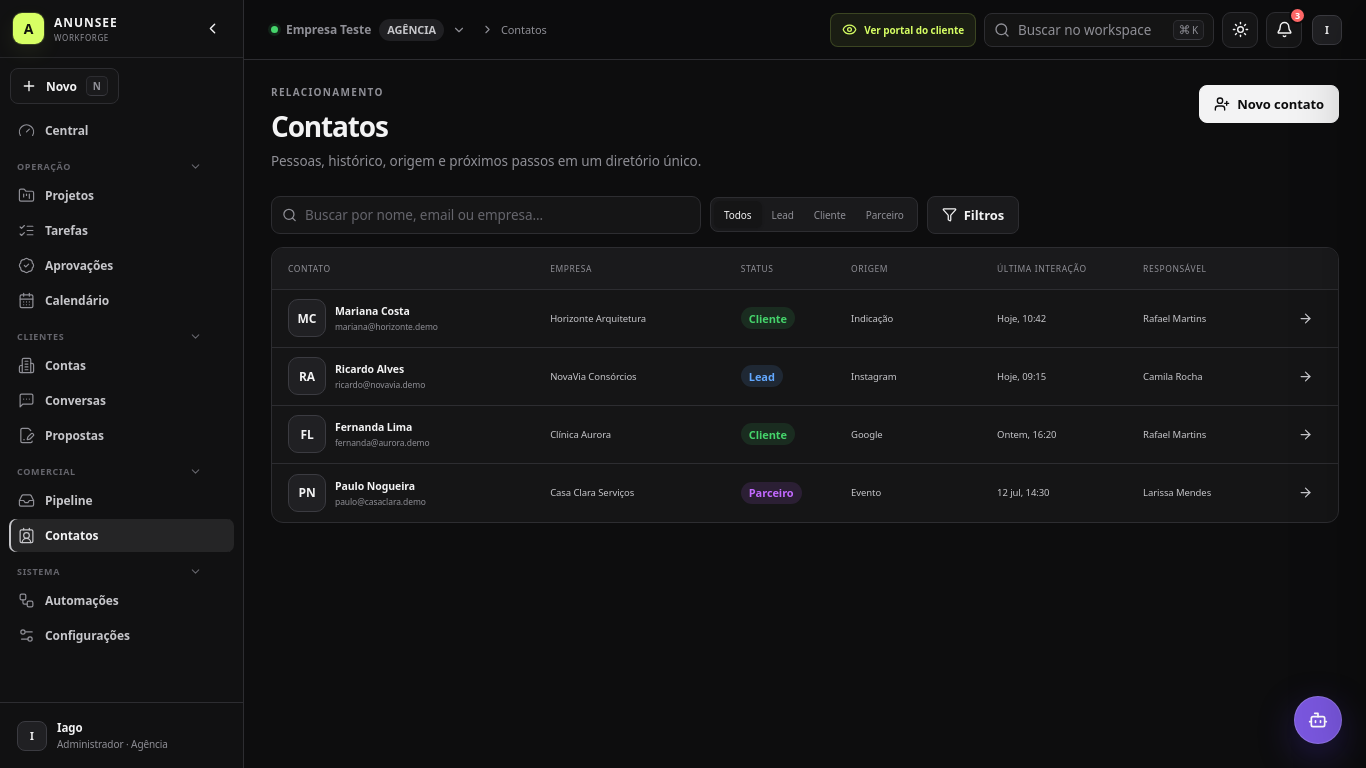
Test: core interactions › creates and persists a contact
Click the button "Novo contato": (1269, 104) [1199,85,1339,123]
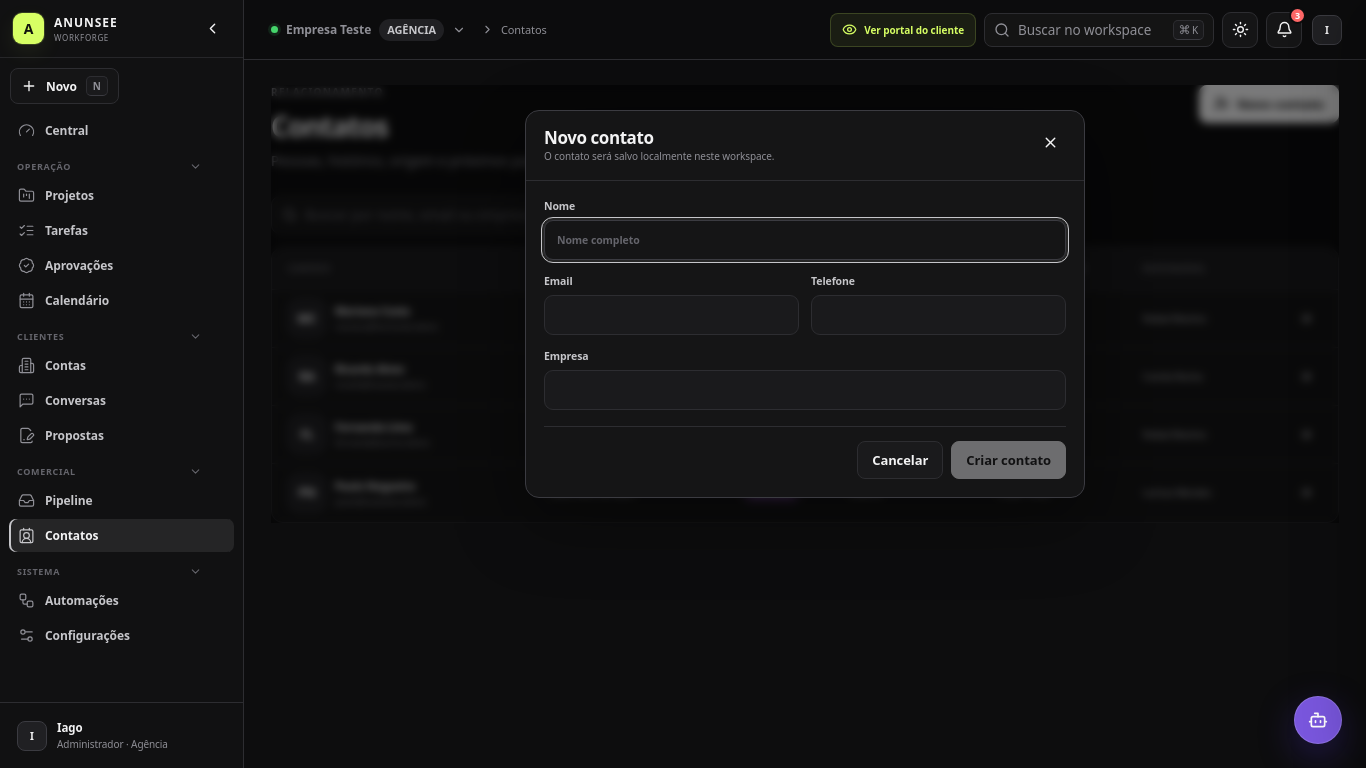
In the field with placeholder "Nome completo": (805, 240) [544,220,1066,260], type "Contato Teste"
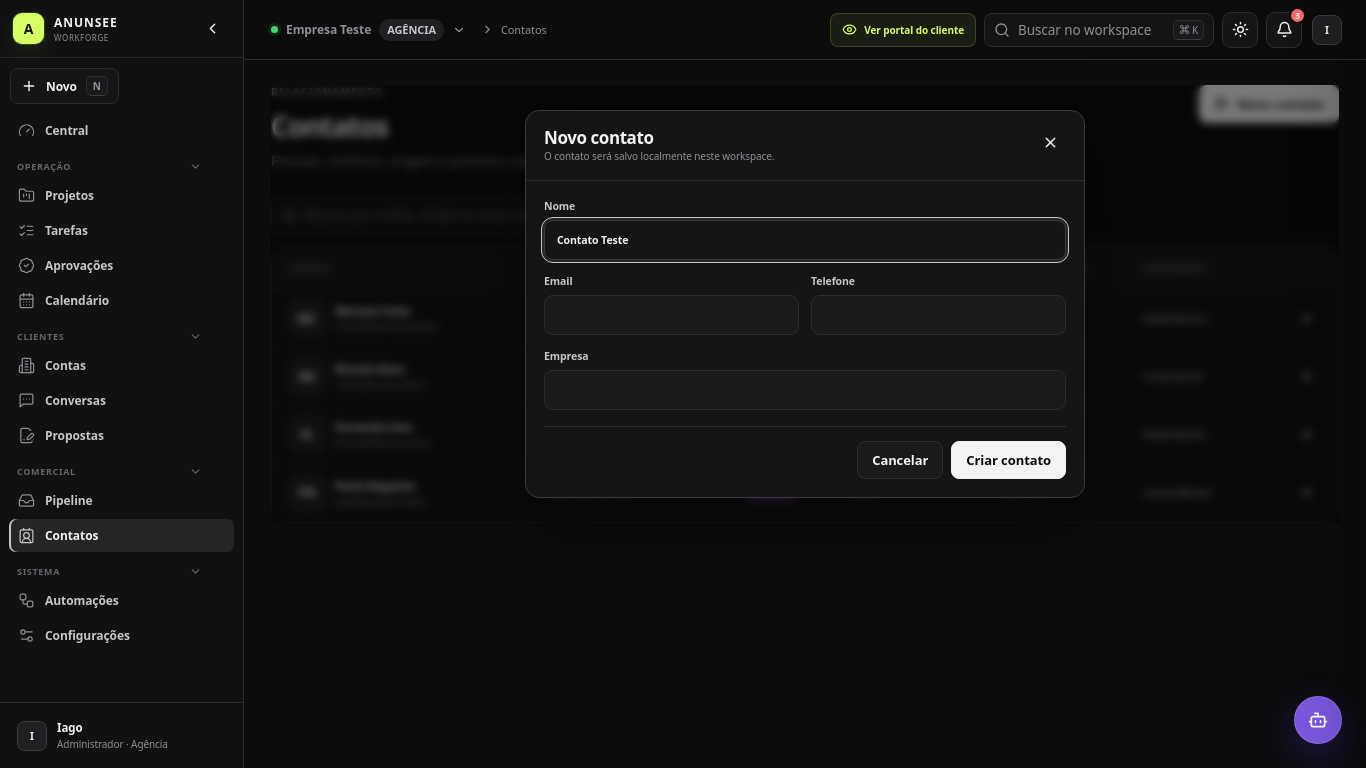
Click the button "Criar contato": (1009, 460) [951,441,1066,479]
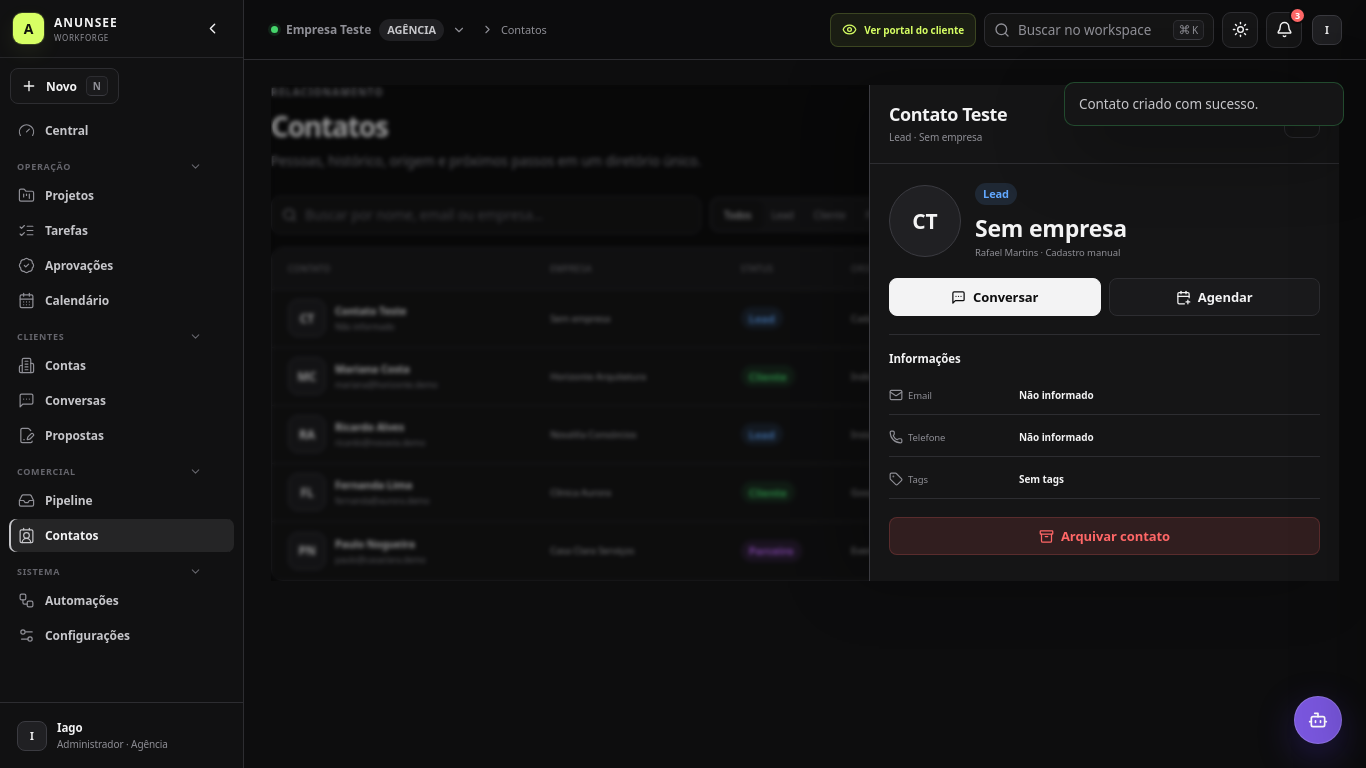
Check: the dialog "Contato Teste" is shown, box [869,85,1339,581]
